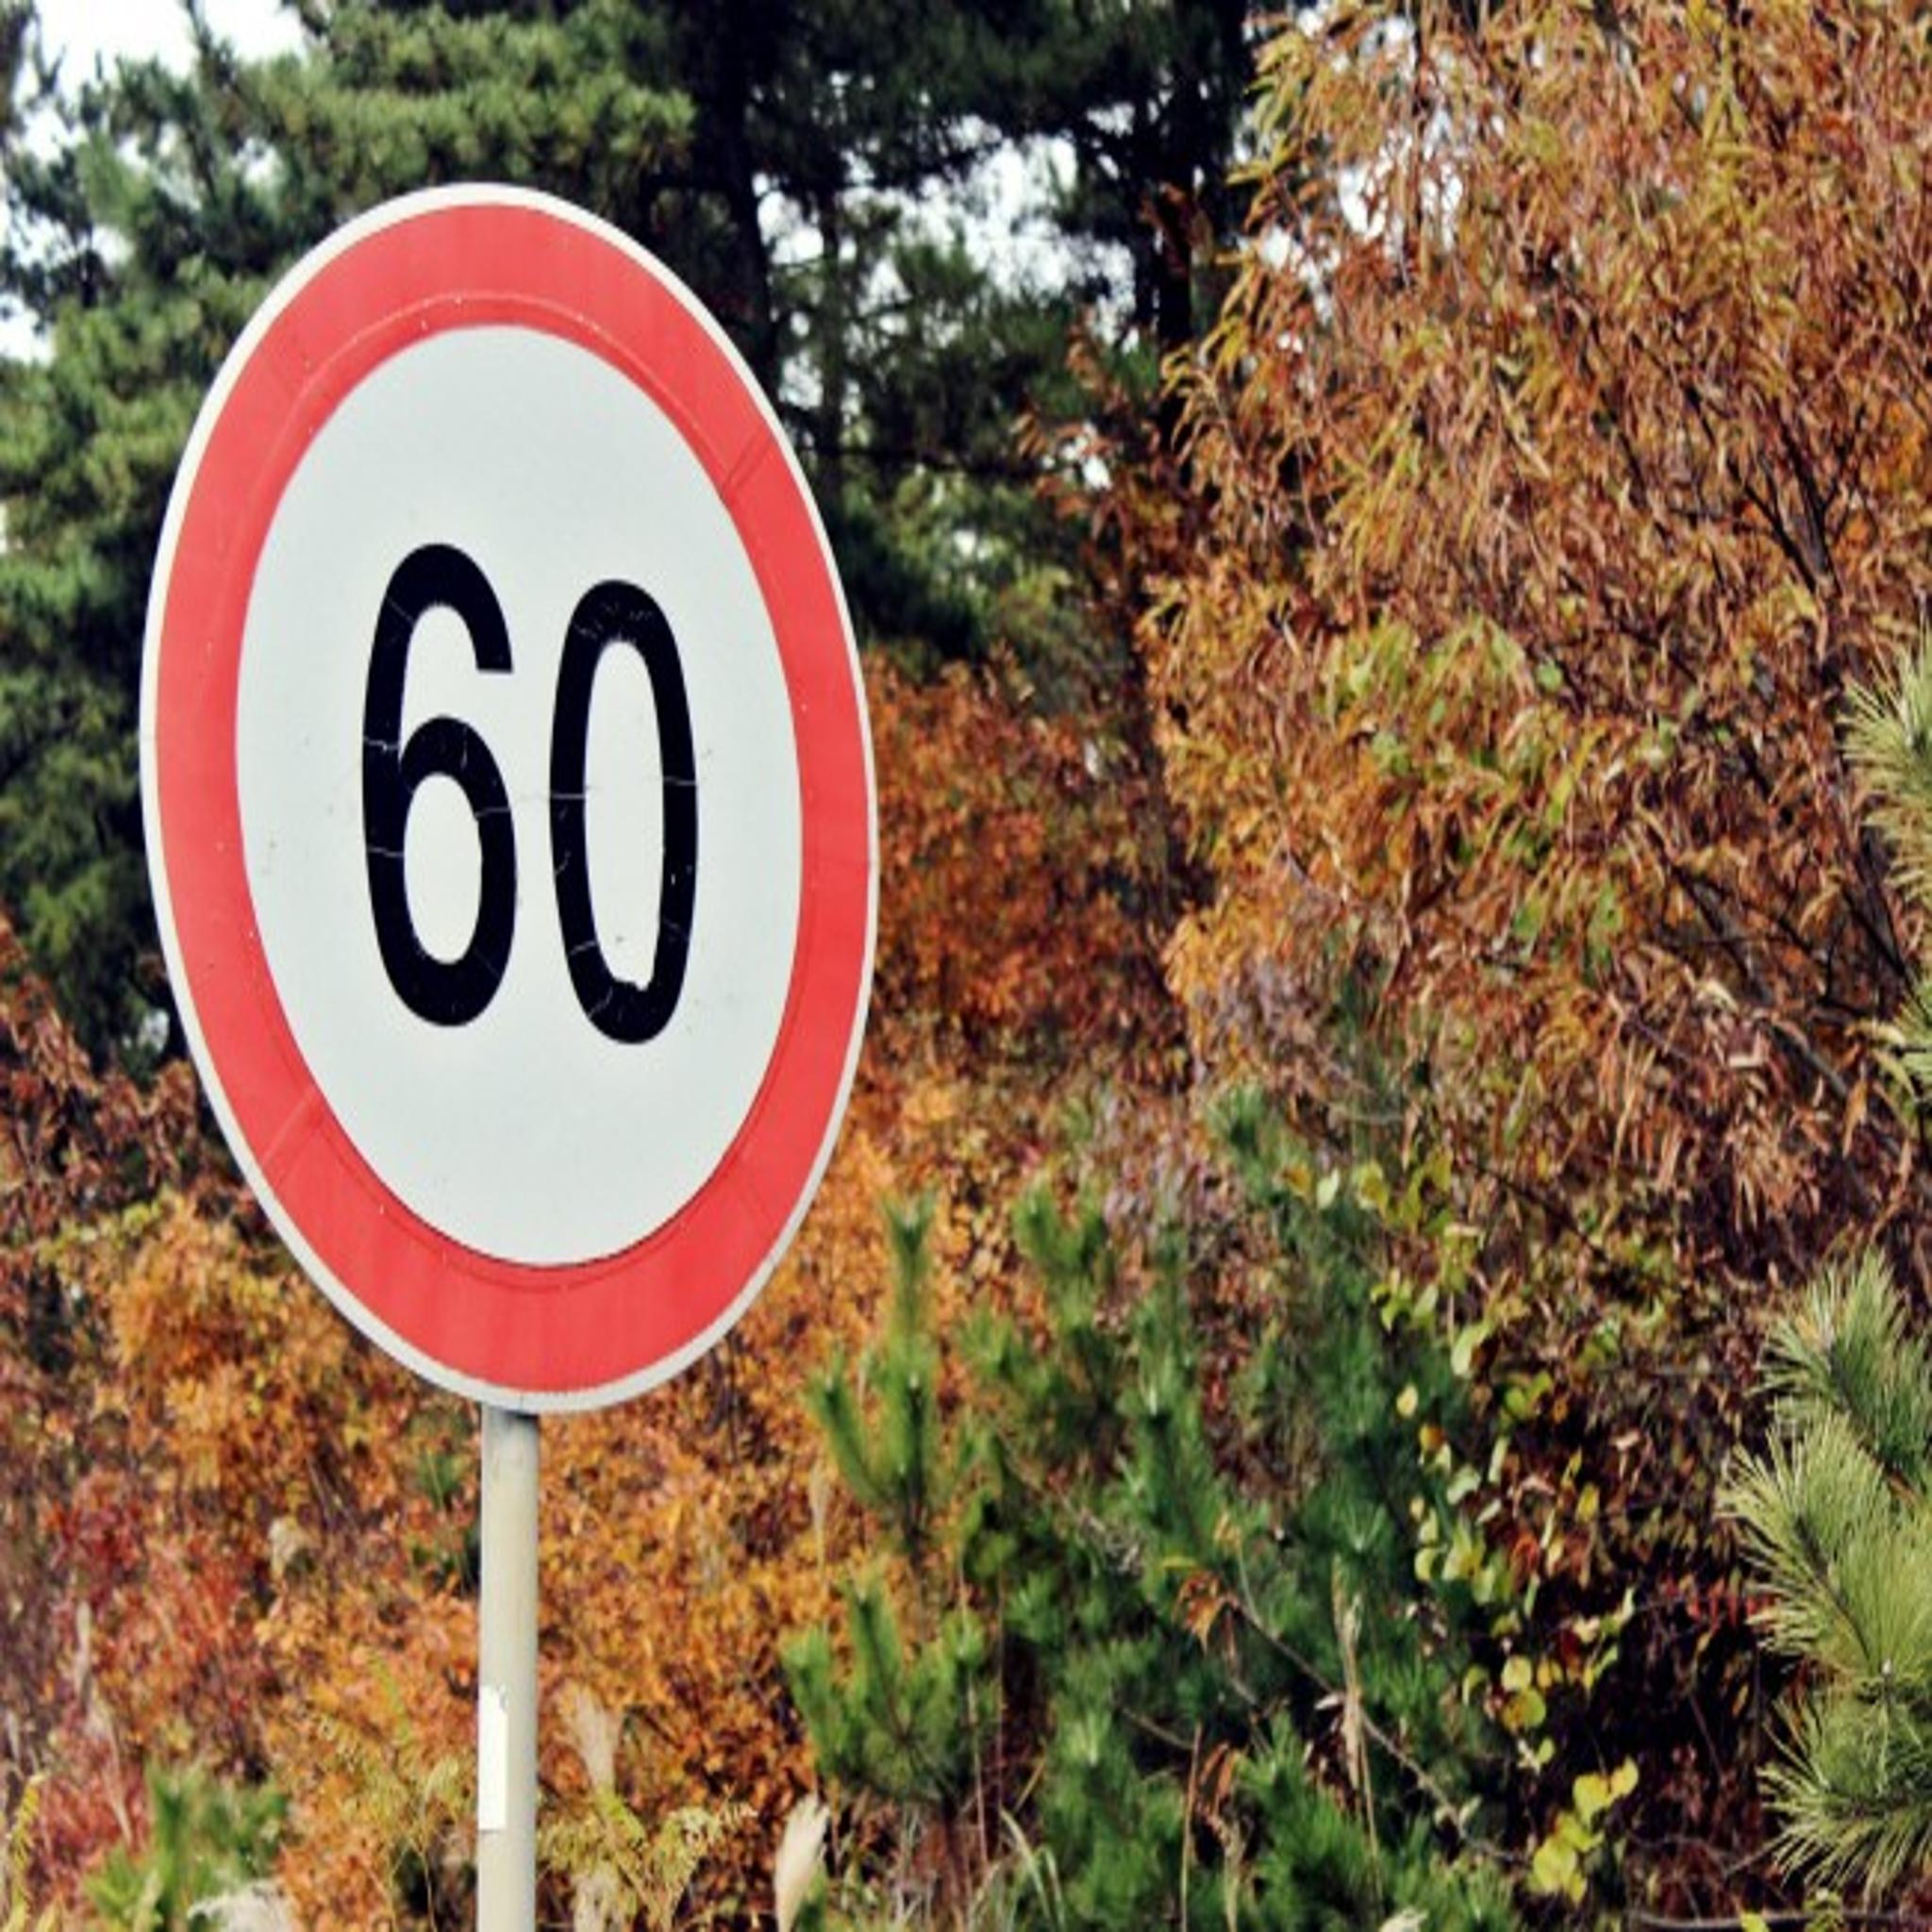pl60: (145, 182, 865, 1414)
